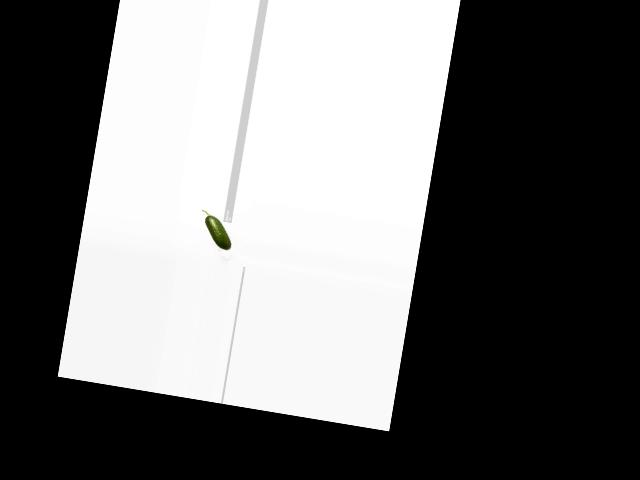cucumber: (197, 209, 236, 250)
